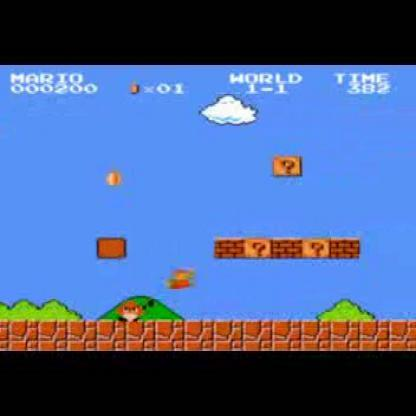Goomba: (117, 296, 144, 323)
